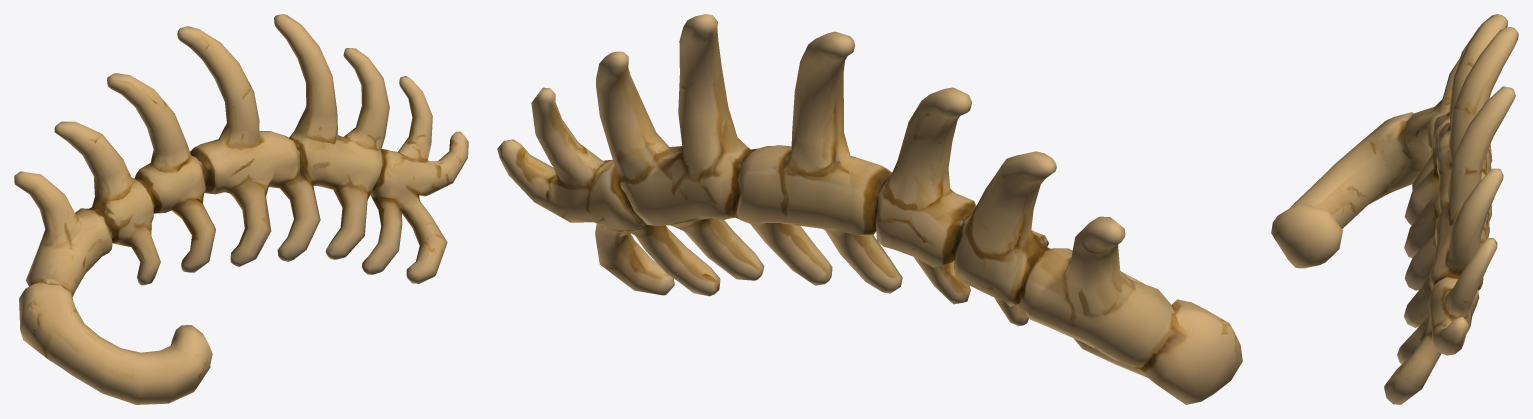
File: fosil_escorpion.fbx
3 renders of one model, left to right at view 1: azimuth 30°, elevation 25°; view 2: azimuth 150°, elevation 25°; view 3: azimuth 270°, elevation 25°, orthographic. The views are drawn at different scales.
Parts seen in each view (by area): view 1: tripo_node_82f1ba6e; view 2: tripo_node_82f1ba6e; view 3: tripo_node_82f1ba6e.
Boxes of the visible parts, <box> form: tripo_node_82f1ba6e: <box>14,14,468,404</box>; tripo_node_82f1ba6e: <box>497,14,1242,404</box>; tripo_node_82f1ba6e: <box>1271,14,1518,404</box>.
Bounding box in the file's own units: 99.46 × 55.03 × 42.16.
Materials: 1 (1 with a texture image).
